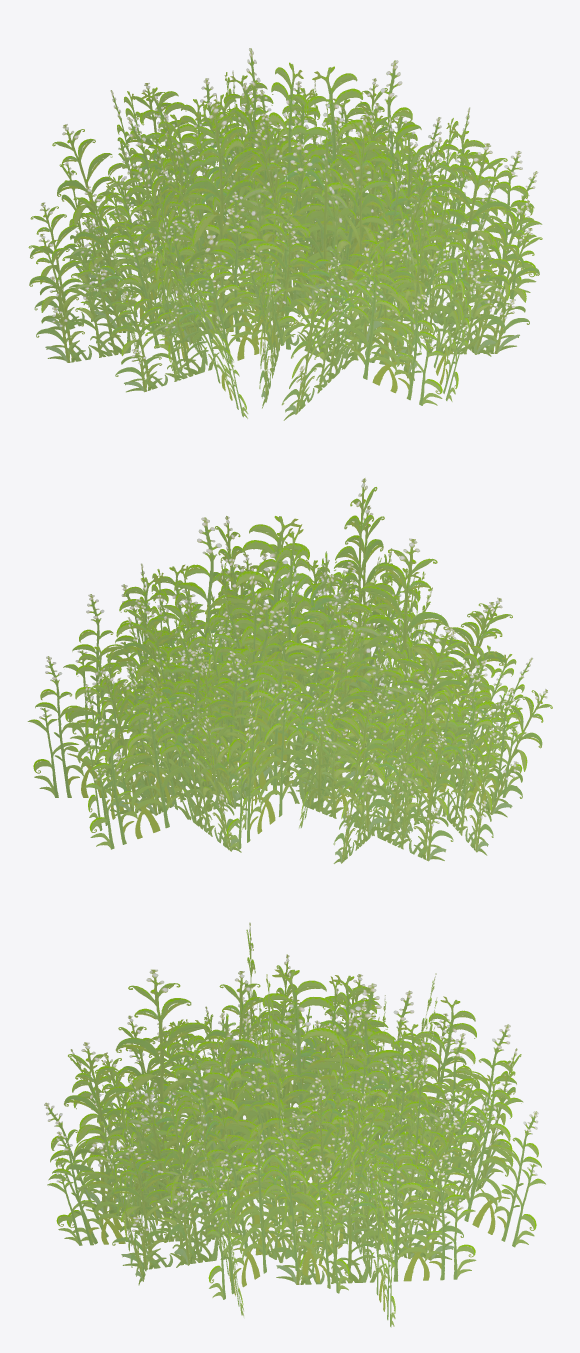
The model's file is SM_cao07_home.fbx.
3 views of the same model, one above another, from view 1: azimuth 30°, elevation 25°; view 2: azimuth 150°, elevation 25°; view 3: azimuth 270°, elevation 25° (orthographic). The views are drawn at different scales.
Parts seen in each view (by area): view 1: SM_cao07_home.mo; view 2: SM_cao07_home.mo; view 3: SM_cao07_home.mo.
Boxes of the visible parts, x1,y1,x2,y2 form: SM_cao07_home.mo: [28, 48, 542, 420]; SM_cao07_home.mo: [27, 478, 552, 863]; SM_cao07_home.mo: [44, 922, 545, 1327].
Size of the model in its own units: 4.75 by 2.63 by 4.84.
